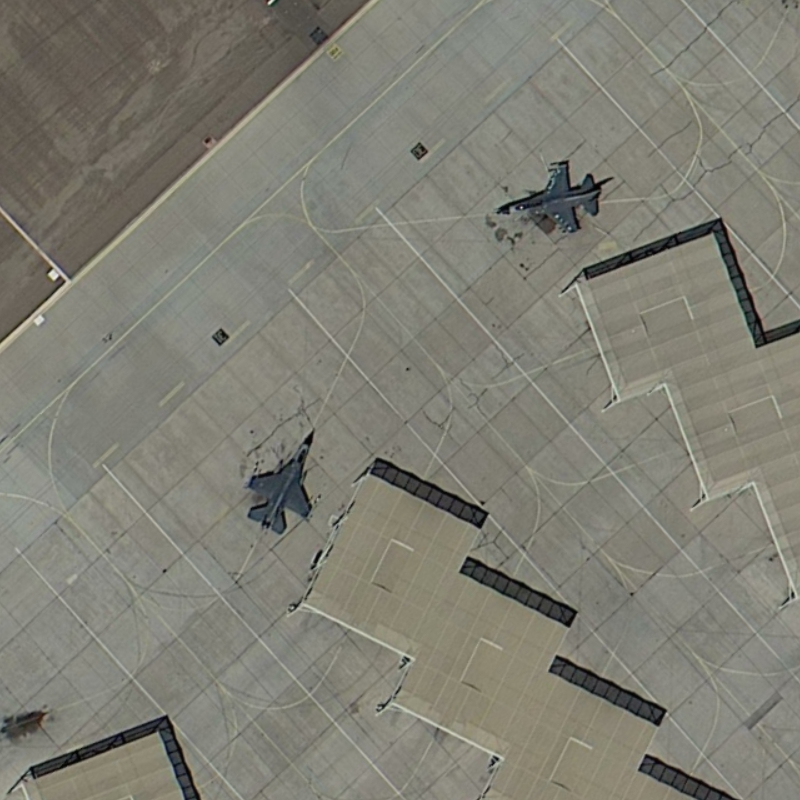A5: (486, 153, 610, 239), (238, 421, 326, 539)
